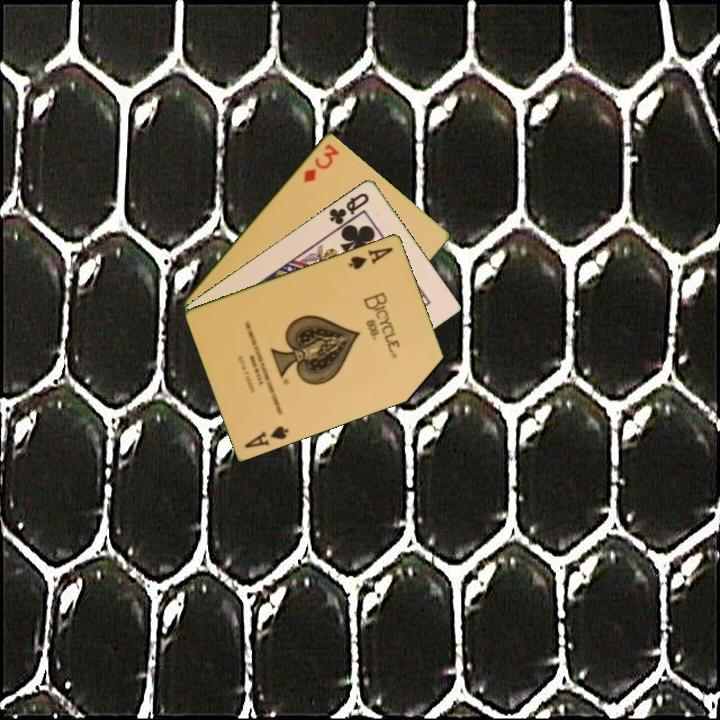3d: (300, 140, 342, 185)
As: (345, 243, 396, 272), (241, 422, 292, 451)
Qc: (325, 189, 372, 232)
